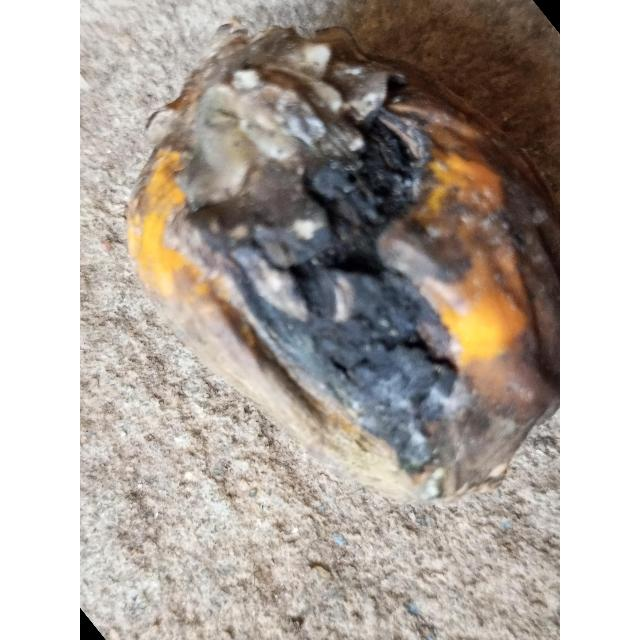damaged: (127, 25, 560, 499)
